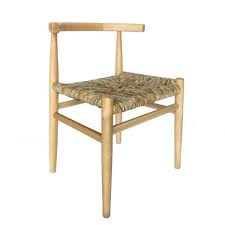tiyarina: (39, 19, 187, 220)
